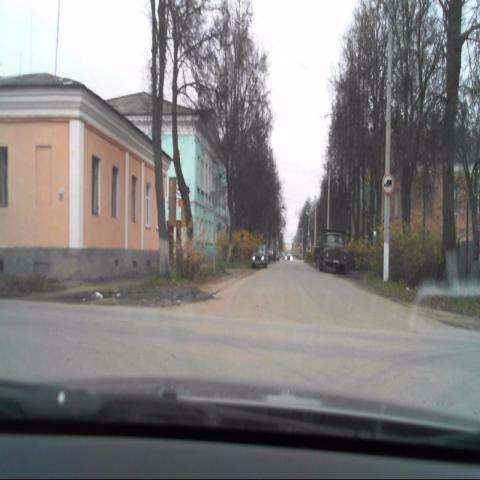3_4_1: (380, 171, 394, 196)
